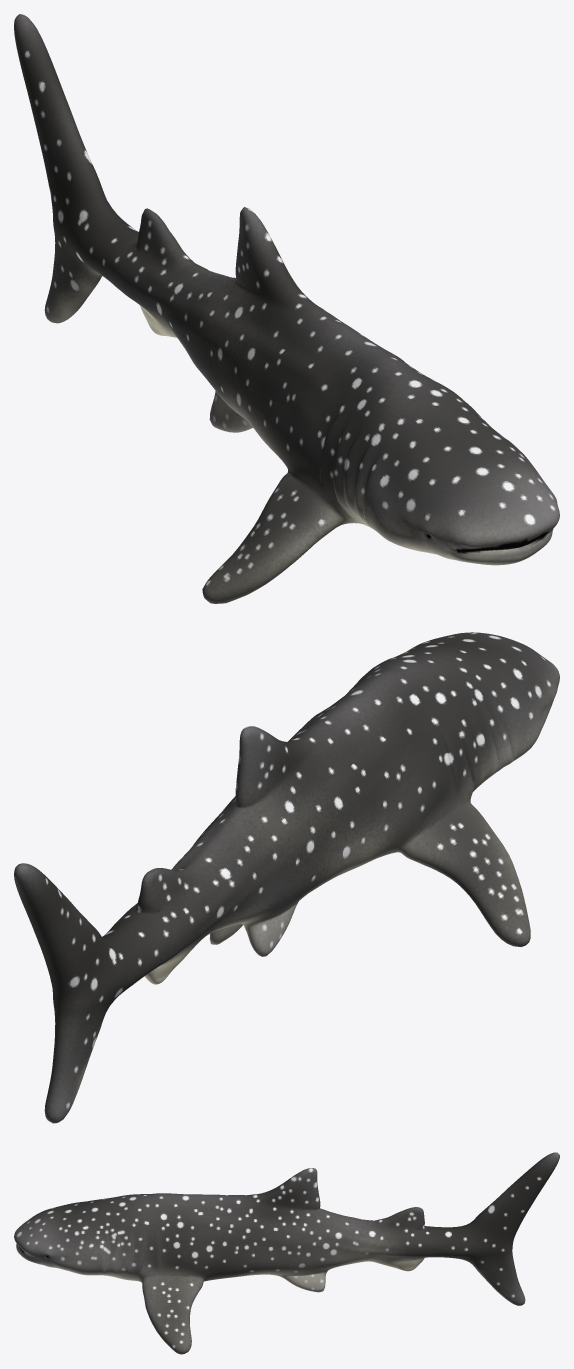
The model's file is model-rhincodon-typus.glb.
3 renders of one model, top to bottom at view 1: azimuth 30°, elevation 25°; view 2: azimuth 150°, elevation 25°; view 3: azimuth 270°, elevation 25°, orthographic. The views are drawn at different scales.
Visible parts, largest first — view 1: node_id4_1; view 2: node_id4_1; view 3: node_id4_1.
Part boxes in pixels (left/top/right/bottom): node_id4_1: left=14, top=14, right=559, bottom=603; node_id4_1: left=14, top=632, right=559, bottom=1123; node_id4_1: left=14, top=1152, right=559, bottom=1354.
Bounding box in the file's own units: 0.3247 × 0.2843 × 0.8757.
1 material, 1 textured.
